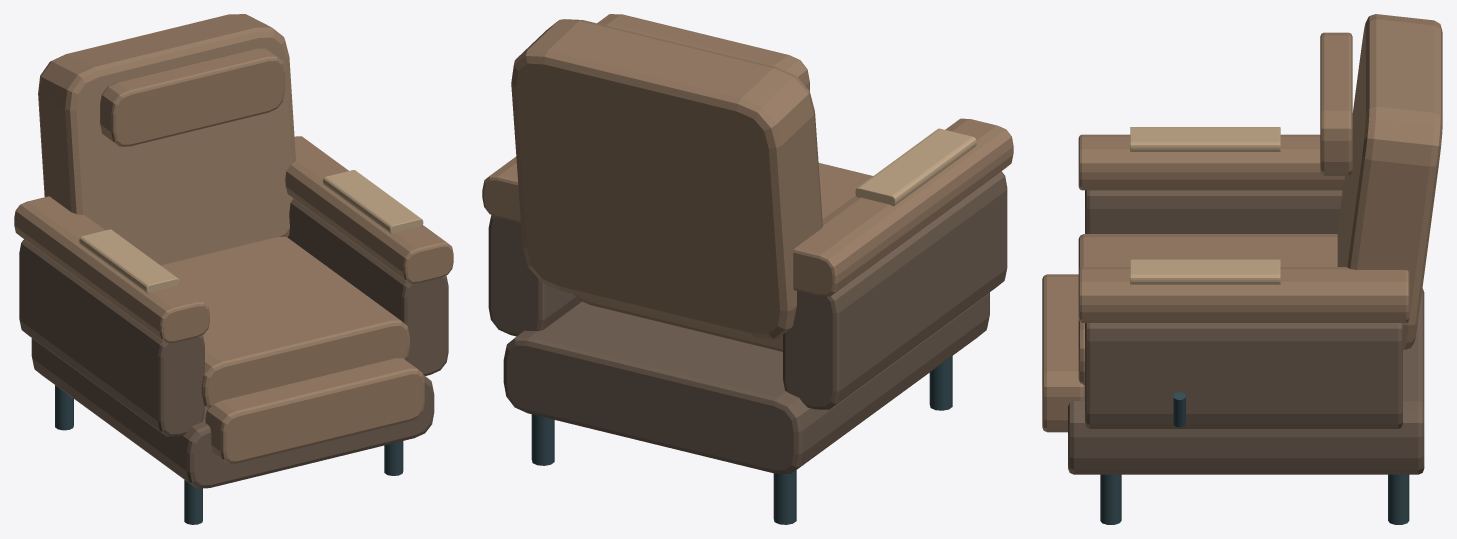
File: recliner.glb
3 views of the same model, side by side, from view 1: azimuth 30°, elevation 25°; view 2: azimuth 150°, elevation 25°; view 3: azimuth 270°, elevation 25° (orthographic). The views are drawn at different scales.
Visible parts, largest first — view 1: recliner-batch (×4); view 2: recliner-batch (×4); view 3: recliner-batch (×4).
Part boxes in pixels (x1,y1,x2,y2): recliner-batch (×4): (14,14,453,524); recliner-batch (×4): (482,14,1013,524); recliner-batch (×4): (1042,14,1442,524).
Size of the model in its own units: 0.9038 by 1.04 by 0.9327.
